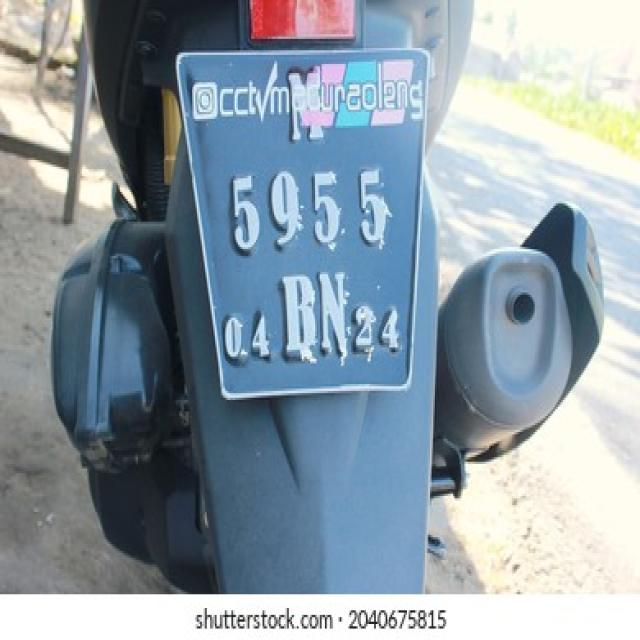license_plate: (172, 43, 430, 400)
